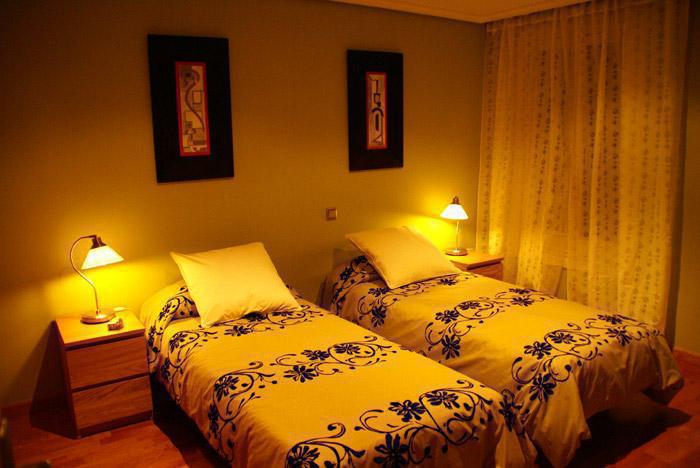Cama: (150, 248, 505, 464), (329, 226, 674, 435)
Ventana: (494, 26, 663, 277)
